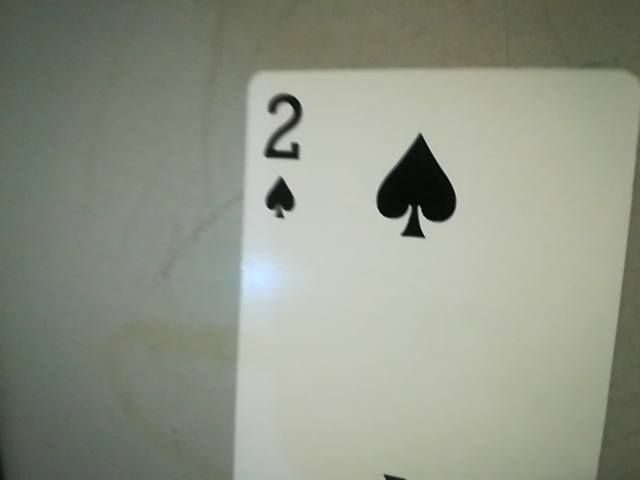ht 2: (247, 84, 318, 229)
